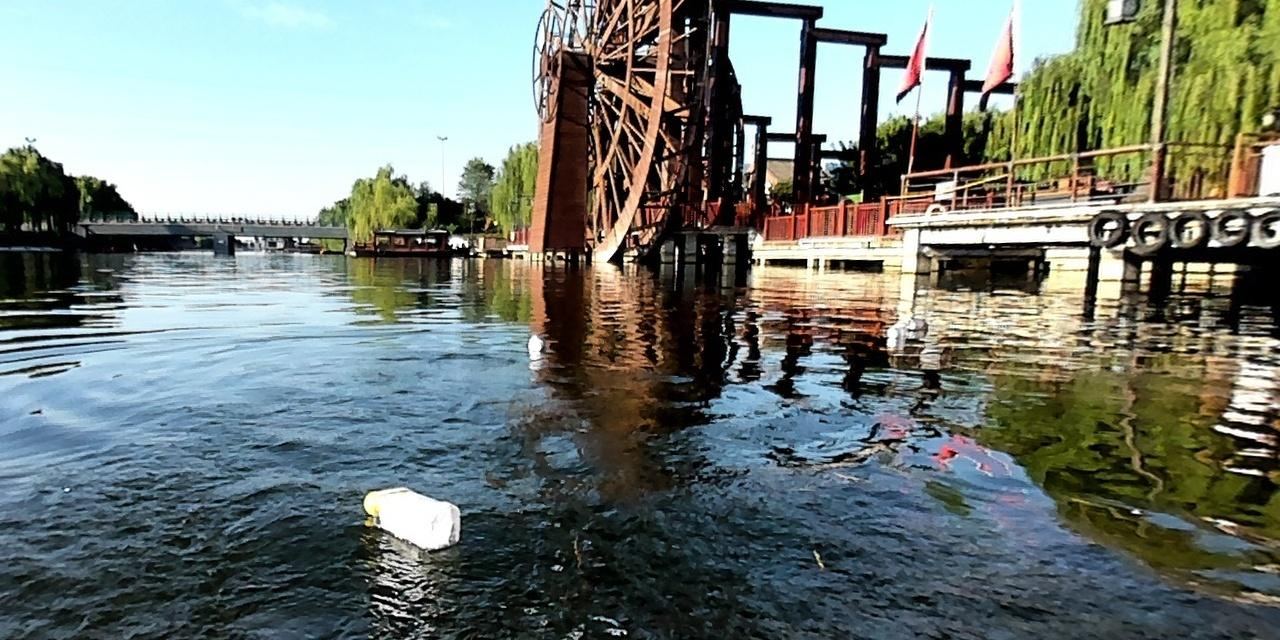bottle: (358, 484, 465, 550)
